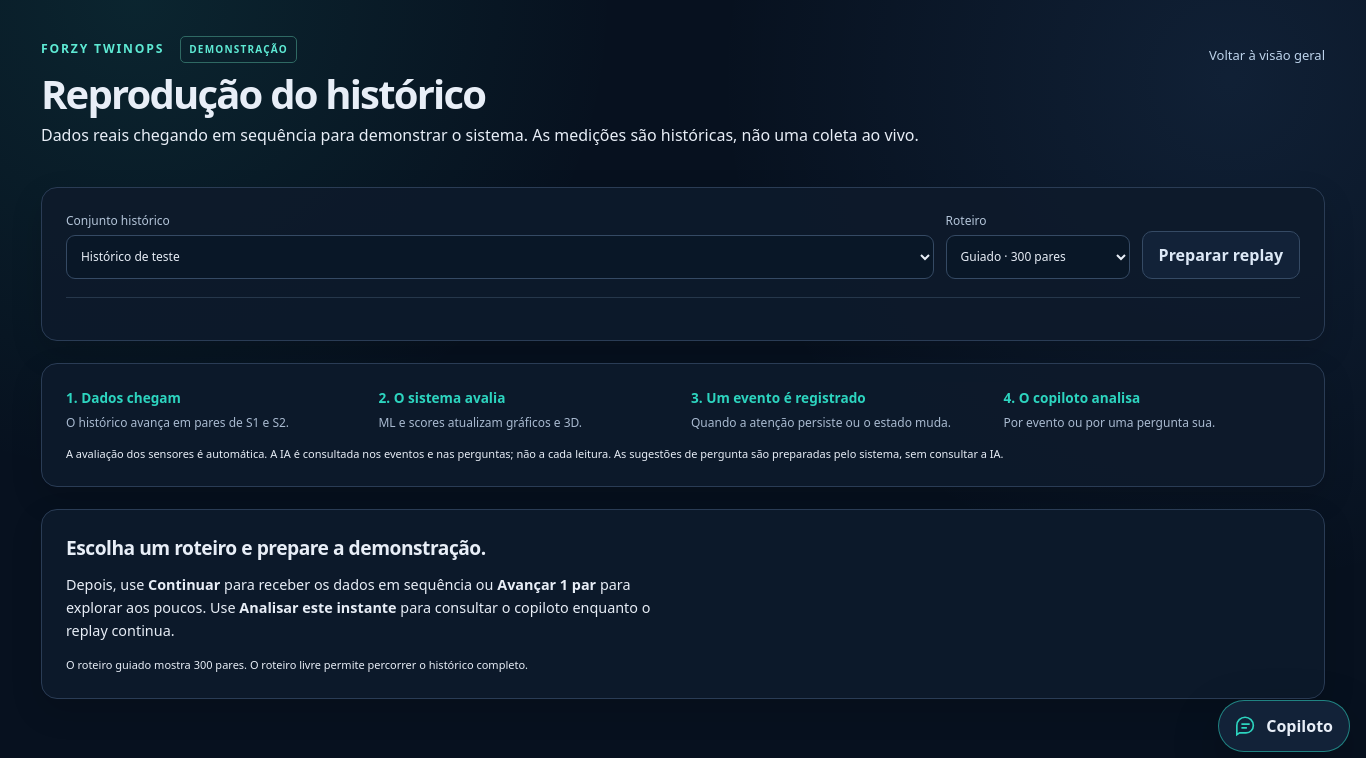
Test: opens analysis and accepts a suggestion during an advance without pausing the replay
Click the button "Preparar replay": (1221, 255) [1142,231,1300,279]
Wait 1000 ms
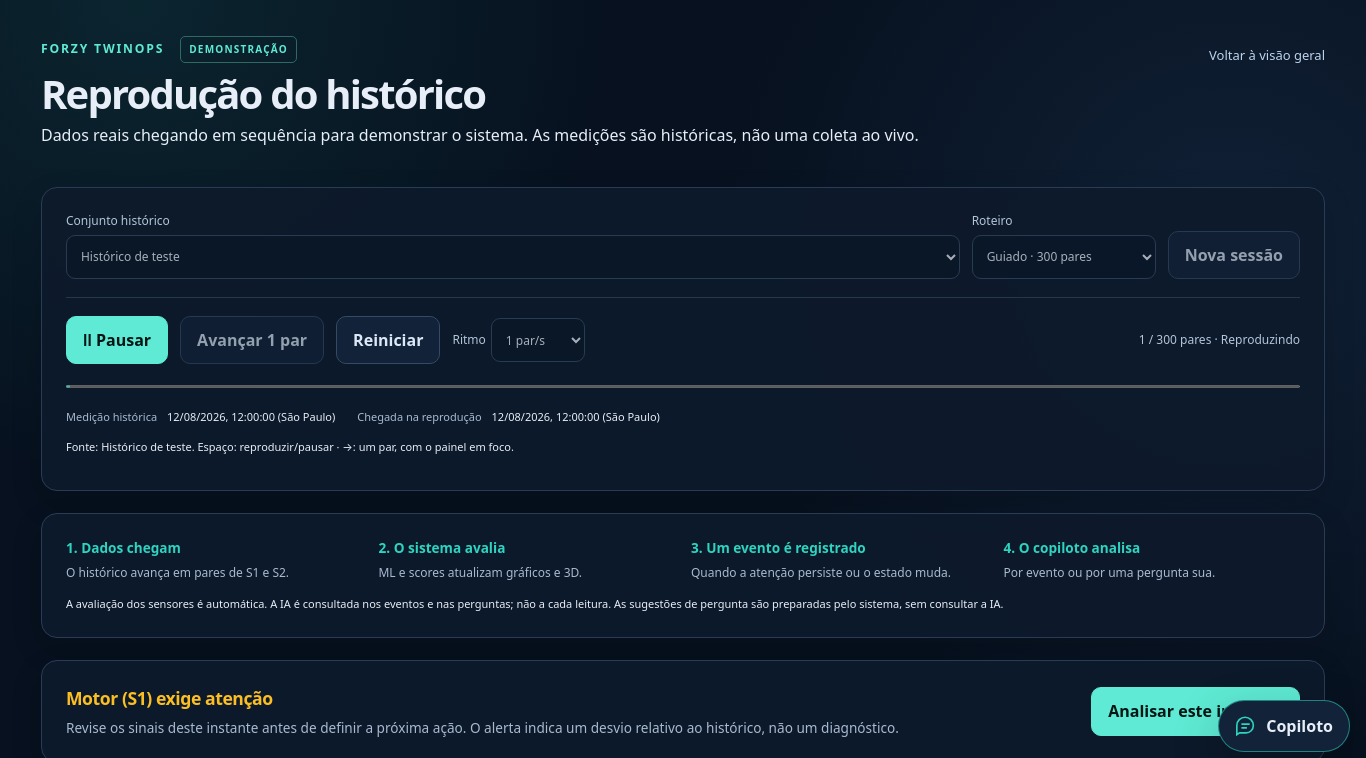
Click the button "Analisar este instante": (1196, 711) [1091,687,1300,736]
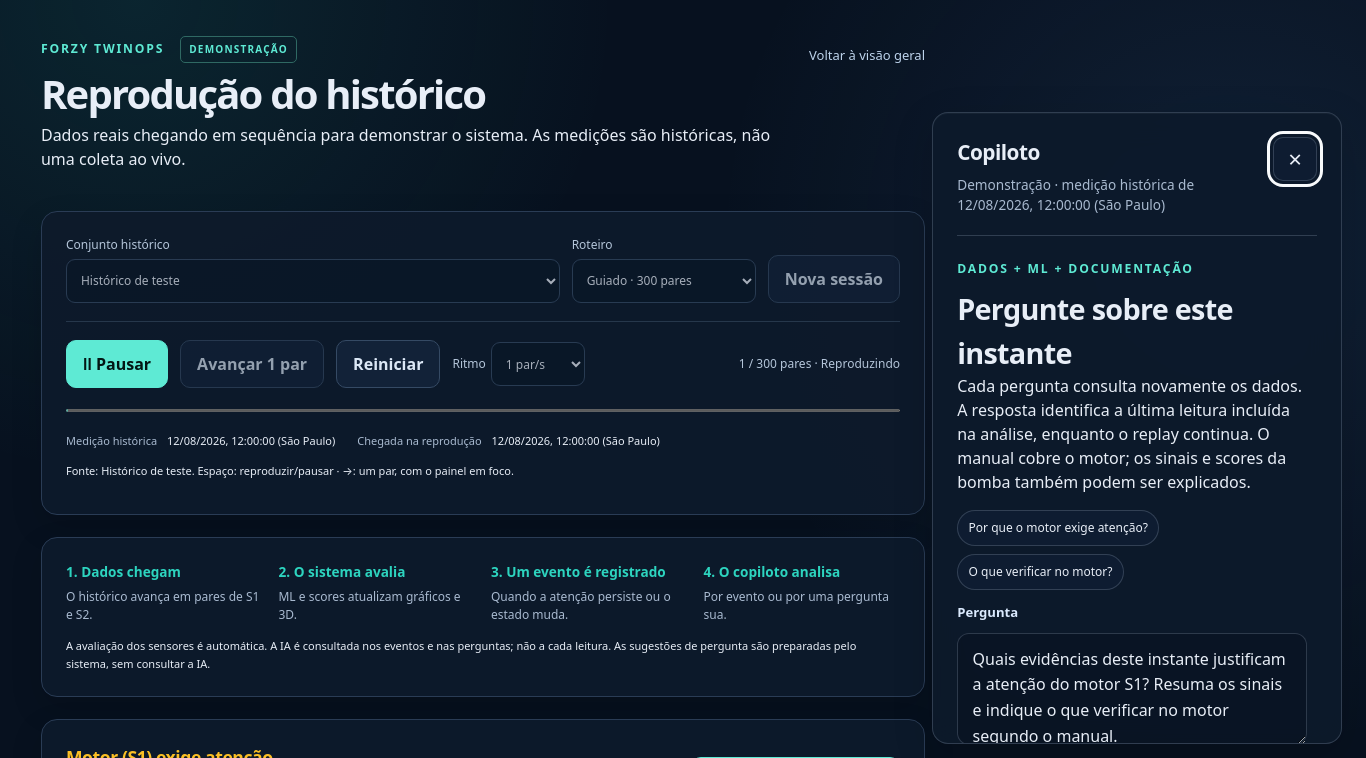
Click the button "Por que o motor exige atenção?": (1058, 528) [957,510,1159,546]
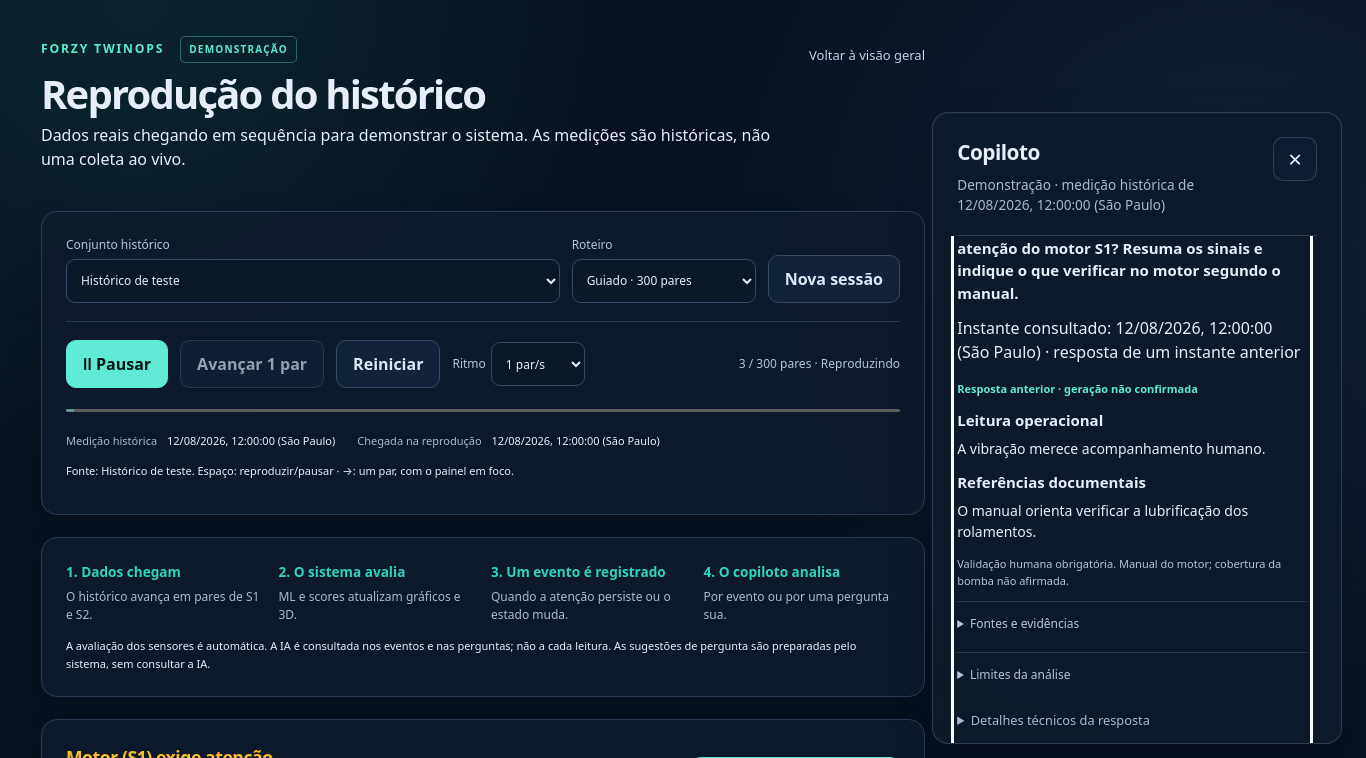
Expected: the button "Ⅱ Pausar" is enabled, [66,340,168,388]
Expected: the text "resposta de um instante anterior" is shown, [1041,341,1300,363]
